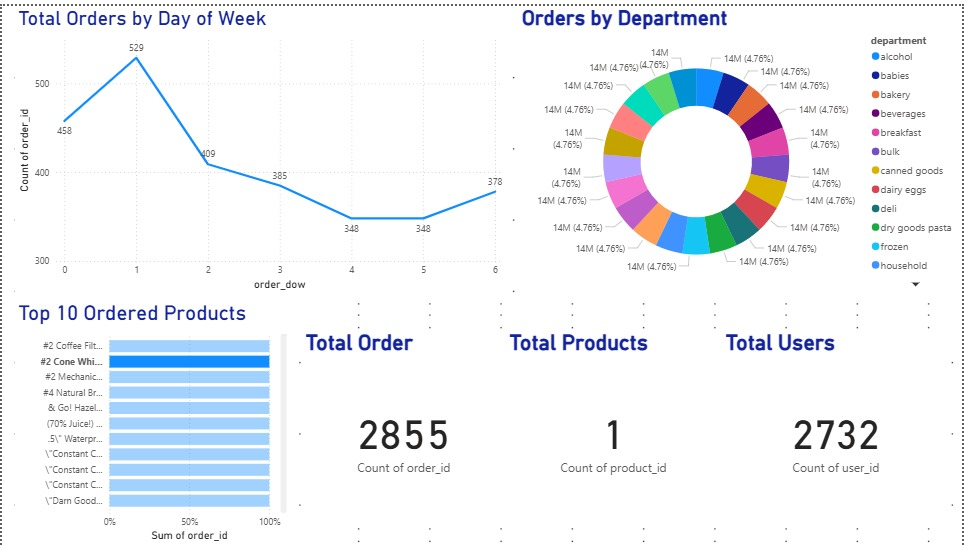

What the dashboard file says about the page in this screenshot:
{"tool":"powerbi","page":{"name":"Historic Analysis","canvas":[1280,720],"ordinal":1},"visuals":[{"type":"lineChart","title":"Total Orders by Day of Week","fields":{"Category":["orders.order_dow"],"Y":["CountNonNull(orders.order_id)"]},"box":[16,0,656,384],"z":0},{"type":"hundredPercentStackedBarChart","title":"Top 10 Ordered Products","fields":{"Category":["products.product_name"],"Y":["Sum(orders.order_id)"]},"box":[16,394,368,326],"z":1000},{"type":"donutChart","title":"Orders by Department","fields":{"Category":["departments.department"],"Y":["Sum(orders.order_id)"]},"box":[688,0,592,384],"z":2000},{"type":"card","title":"Total Users","fields":{"Values":["Count(orders.user_id)"]},"box":[960,432,304,256],"z":3000},{"type":"card","title":"Total Products","fields":{"Values":["Count(products.product_id)"]},"box":[672,432,288,256],"z":4000},{"type":"card","title":"Total Order","fields":{"Values":["Count(orders.order_id)"]},"box":[400,432,272,256],"z":5000}]}

Visuals, with their boxes in screenshot pixels (x1, y1, x2, y2), scaled from the page's 1280x720 canvas onto the 965x545 screenshot:
"Total Orders by Day of Week" lineChart: 12/0/507/291
"Top 10 Ordered Products" hundredPercentStackedBarChart: 12/298/290/544
"Orders by Department" donutChart: 519/0/964/291
"Total Users" card: 724/327/953/521
"Total Products" card: 507/327/724/521
"Total Order" card: 302/327/507/521
